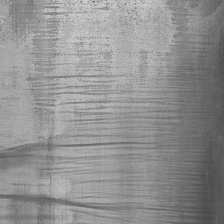waist_folding: (21, 32, 214, 217)
